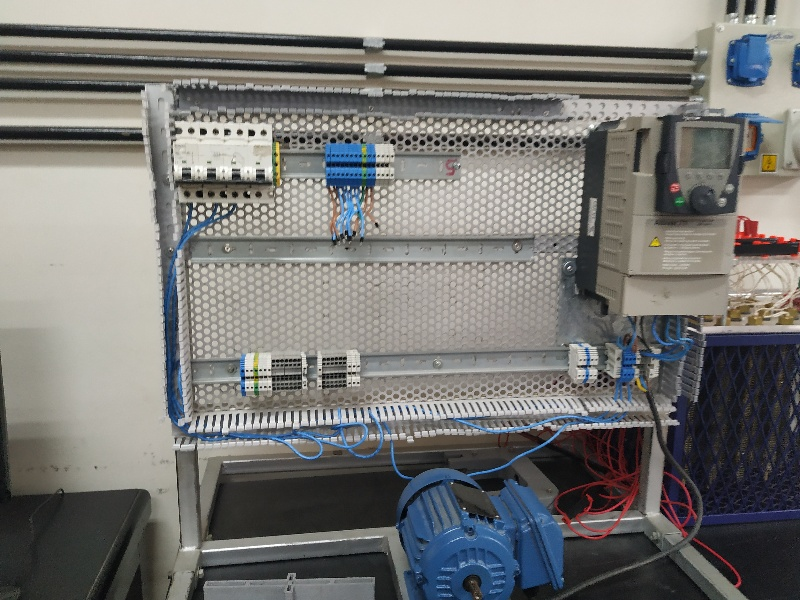Tablero 0: (148, 85, 736, 438)
